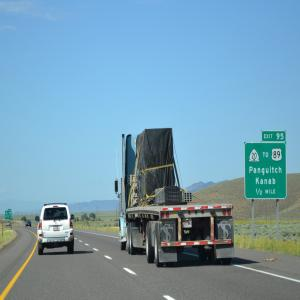Vehicle-registration-plate: (54, 225, 60, 231)
